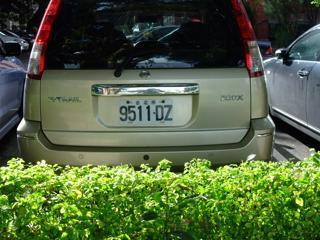plate: (117, 97, 176, 128)
